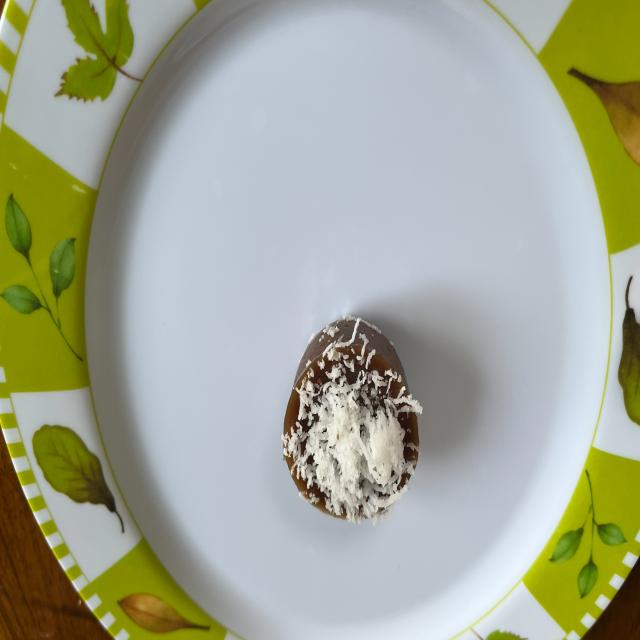Kuih lompang: (282, 316, 421, 524)
